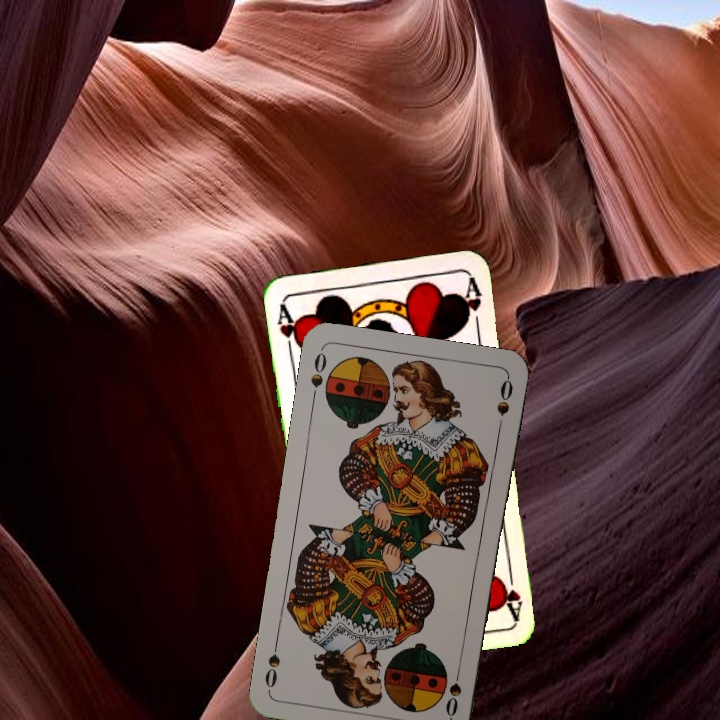HA: (273, 299, 304, 358), (495, 562, 525, 621)
SO: (441, 660, 464, 719), (306, 346, 329, 405)
